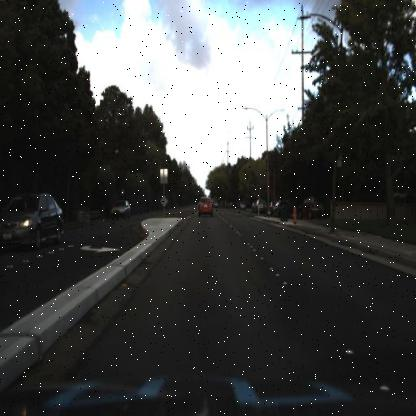car: (0, 190, 66, 254), (268, 191, 295, 222), (105, 195, 134, 222), (296, 195, 326, 219), (110, 197, 131, 221), (197, 194, 213, 220), (253, 194, 270, 218)
